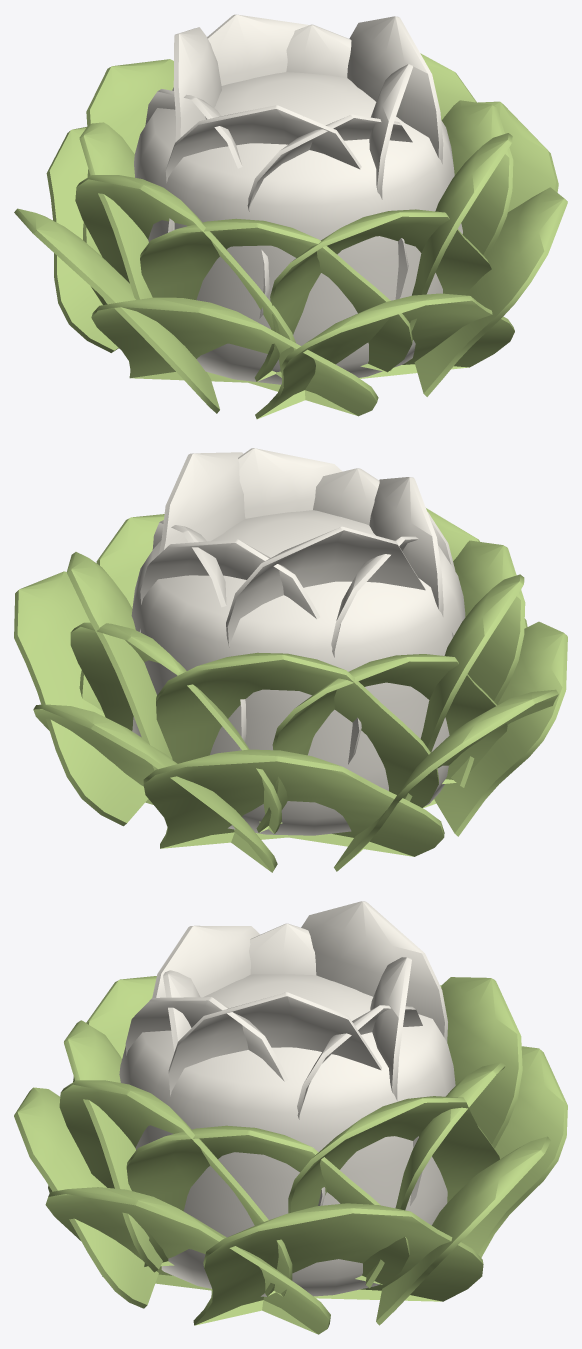
Rendered from fresh-produce-and-groceries-iceberg-lettuce-d819c4aa__24366.glb.
3 views of the same model, one above another, from view 1: azimuth 30°, elevation 25°; view 2: azimuth 150°, elevation 25°; view 3: azimuth 270°, elevation 25° (orthographic). The views are drawn at different scales.
Visible parts, largest first — view 1: iceberg-lettuce; view 2: iceberg-lettuce; view 3: iceberg-lettuce.
Boxes of the visible parts, <box> form: iceberg-lettuce: <box>14,14,567,419</box>; iceberg-lettuce: <box>14,448,567,872</box>; iceberg-lettuce: <box>14,901,567,1334</box>.
Size of the model in its own units: 0.2691 by 0.1673 by 0.255.
